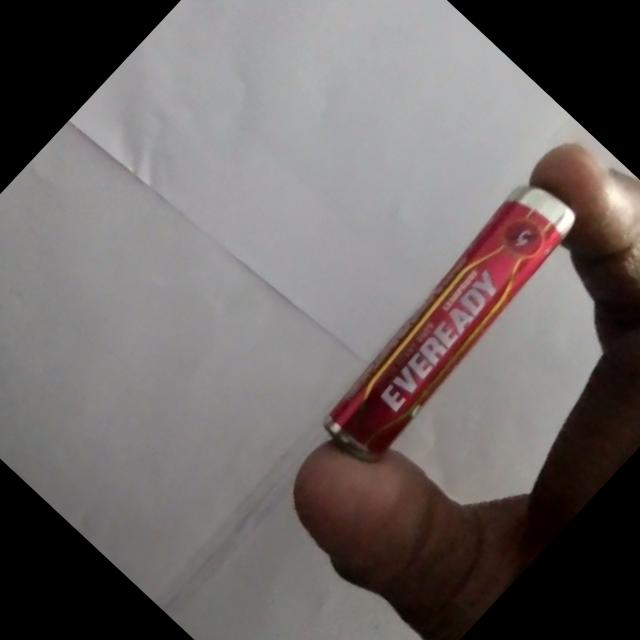battery: (325, 187, 572, 456)
